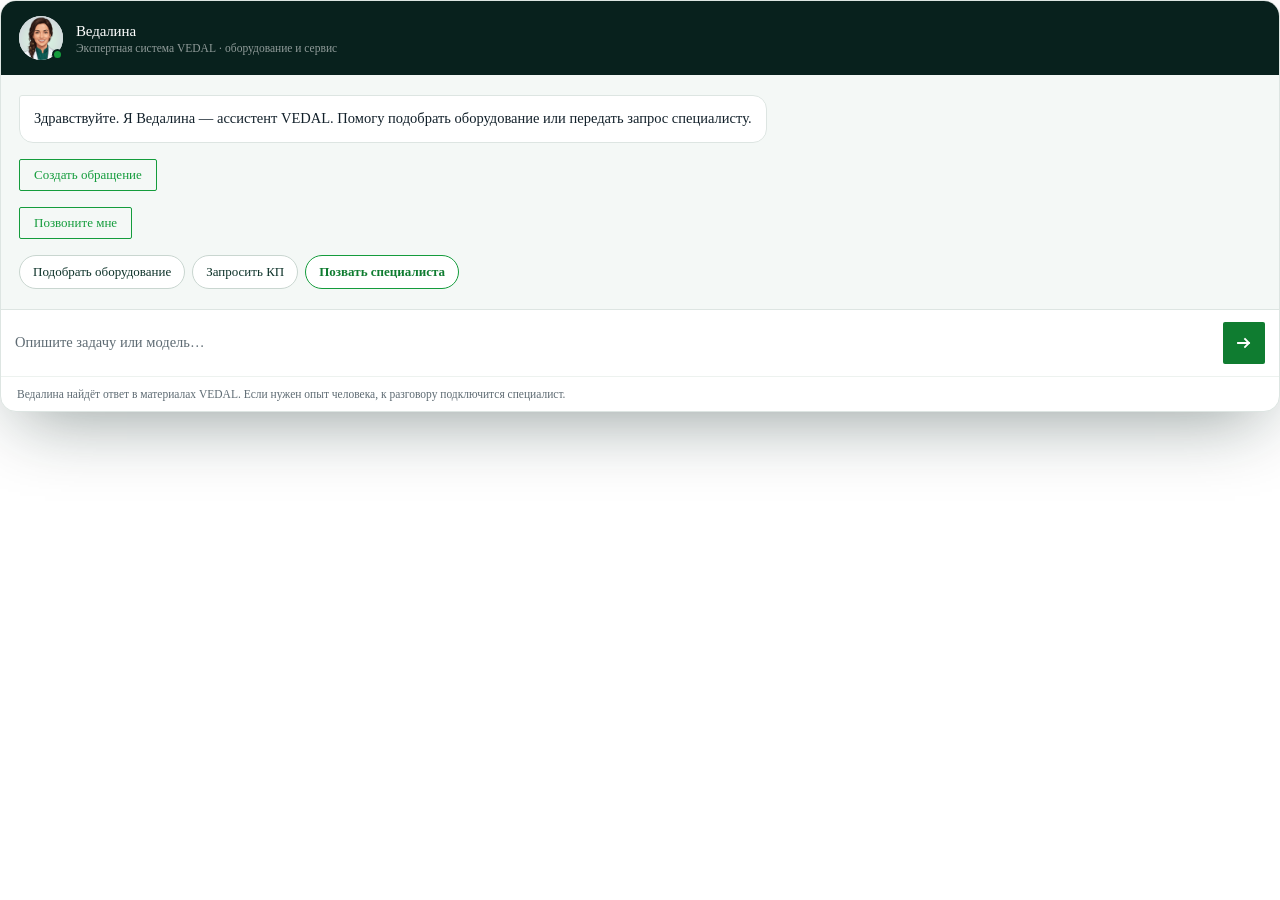
ожидание ответа › не гаснет оттого, что дверь ответила: ответа в её ответе больше нет
The image size is (1280, 900).
Click the button "Запросить КП": [245, 272] box [192,255,298,289]
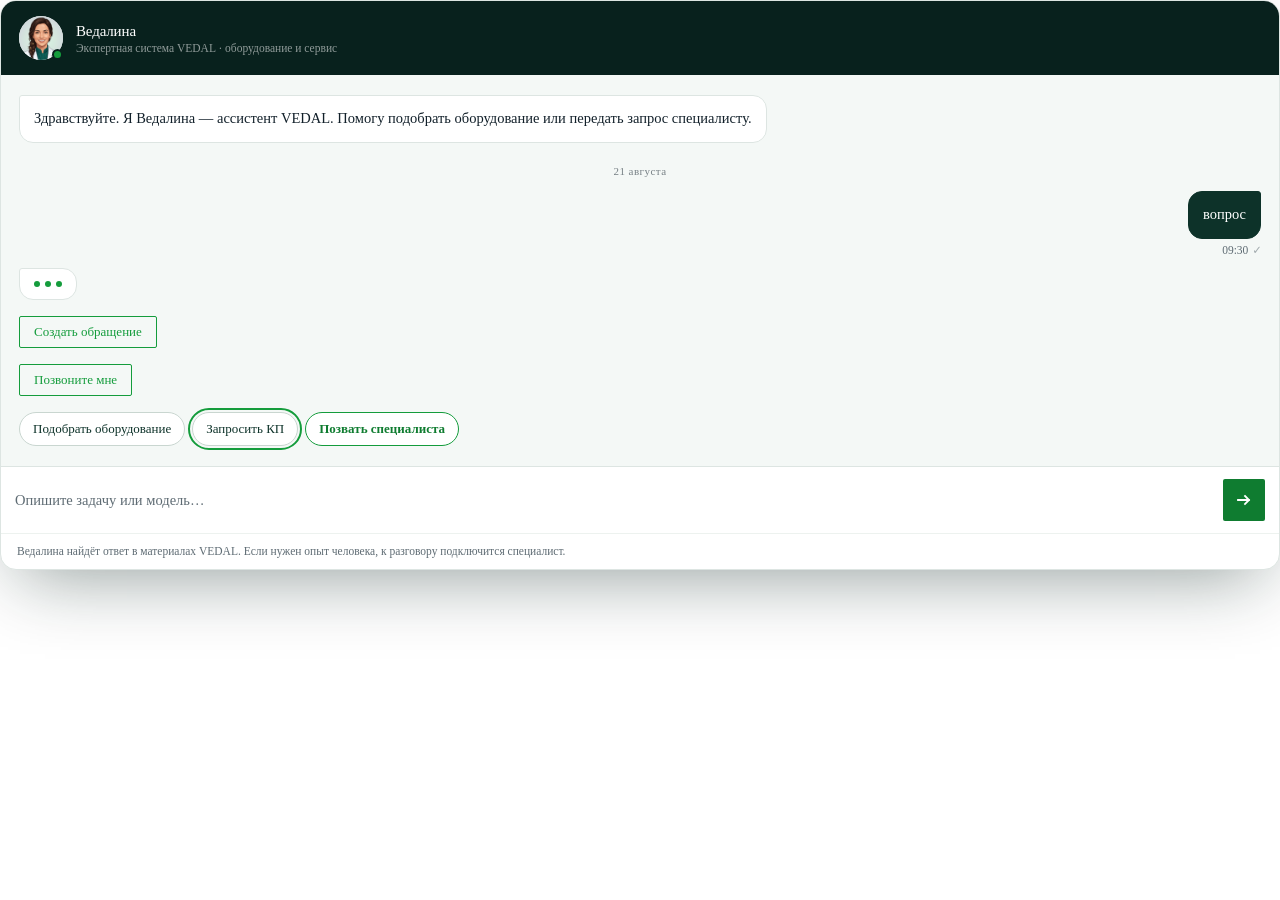
expect the element named "Ведалина печатает" is shown: met, box [19,268,77,300]
